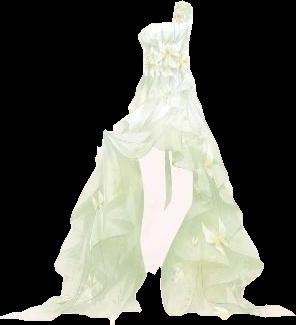Bodice: (138, 0, 192, 78)
Hemline: (2, 88, 196, 323), (168, 125, 294, 316)
Neckline: (137, 2, 178, 38), (140, 40, 185, 49)
Skirt: (0, 75, 294, 324)
Waistline: (142, 73, 187, 81)
